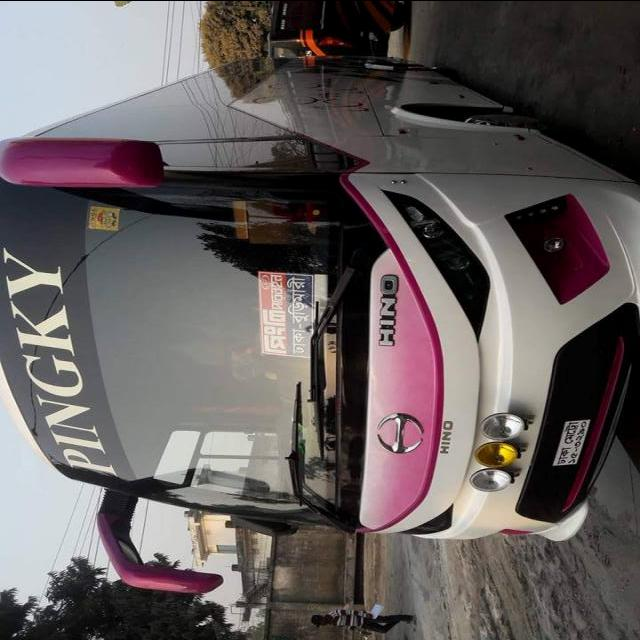bus: (1, 55, 640, 594)
